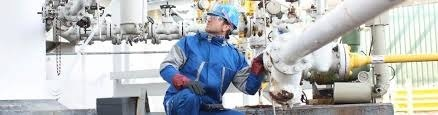helmet: (200, 4, 241, 28)
person with partial safety: (173, 5, 250, 103)
